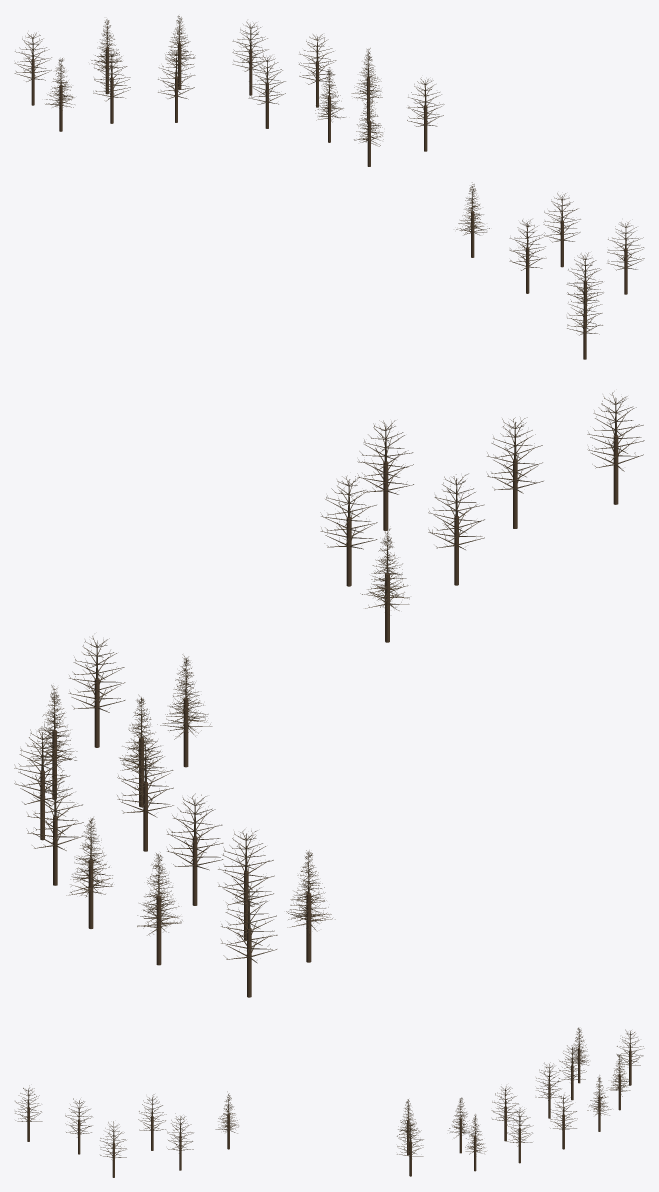
The model's file is trees.glb.
The picture shows the model from 3 angles, top to bottom: view 1: azimuth 30°, elevation 25°; view 2: azimuth 150°, elevation 25°; view 3: azimuth 270°, elevation 25°; orthographic projection. The views are drawn at different scales.
Visible parts, largest first — view 1: R56_TREE_6380924935_BRANCHES, R38_TREE_6380924935_TRUNK; view 2: R56_TREE_6380924935_BRANCHES, R38_TREE_6380924935_TRUNK; view 3: R56_TREE_6380924935_BRANCHES, R38_TREE_6380924935_TRUNK.
Boxes of the visible parts, x1,y1,x2,y2 form: R56_TREE_6380924935_BRANCHES: (14,15,644,335); R38_TREE_6380924935_TRUNK: (31,43,627,359); R56_TREE_6380924935_BRANCHES: (14,391,644,963); R38_TREE_6380924935_TRUNK: (40,435,618,997); R56_TREE_6380924935_BRANCHES: (15,1027,644,1160); R38_TREE_6380924935_TRUNK: (27,1048,631,1177).
Size of the model in its own units: 32.85 by 8.43 by 82.72.
